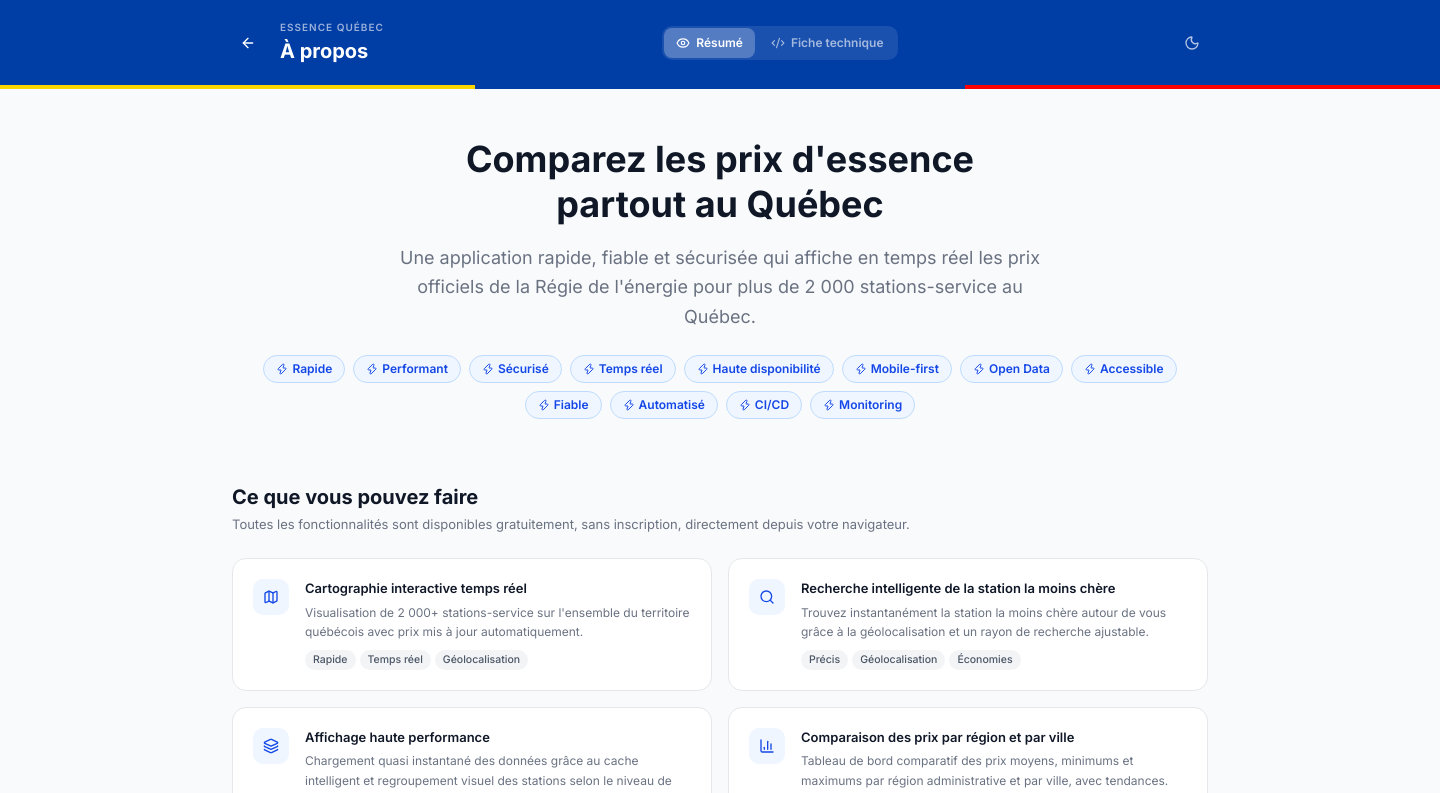
TechPage › affiche les métriques en mode détaillé
Click the button "Fiche technique" at (827, 42), box [759,28,896,58]
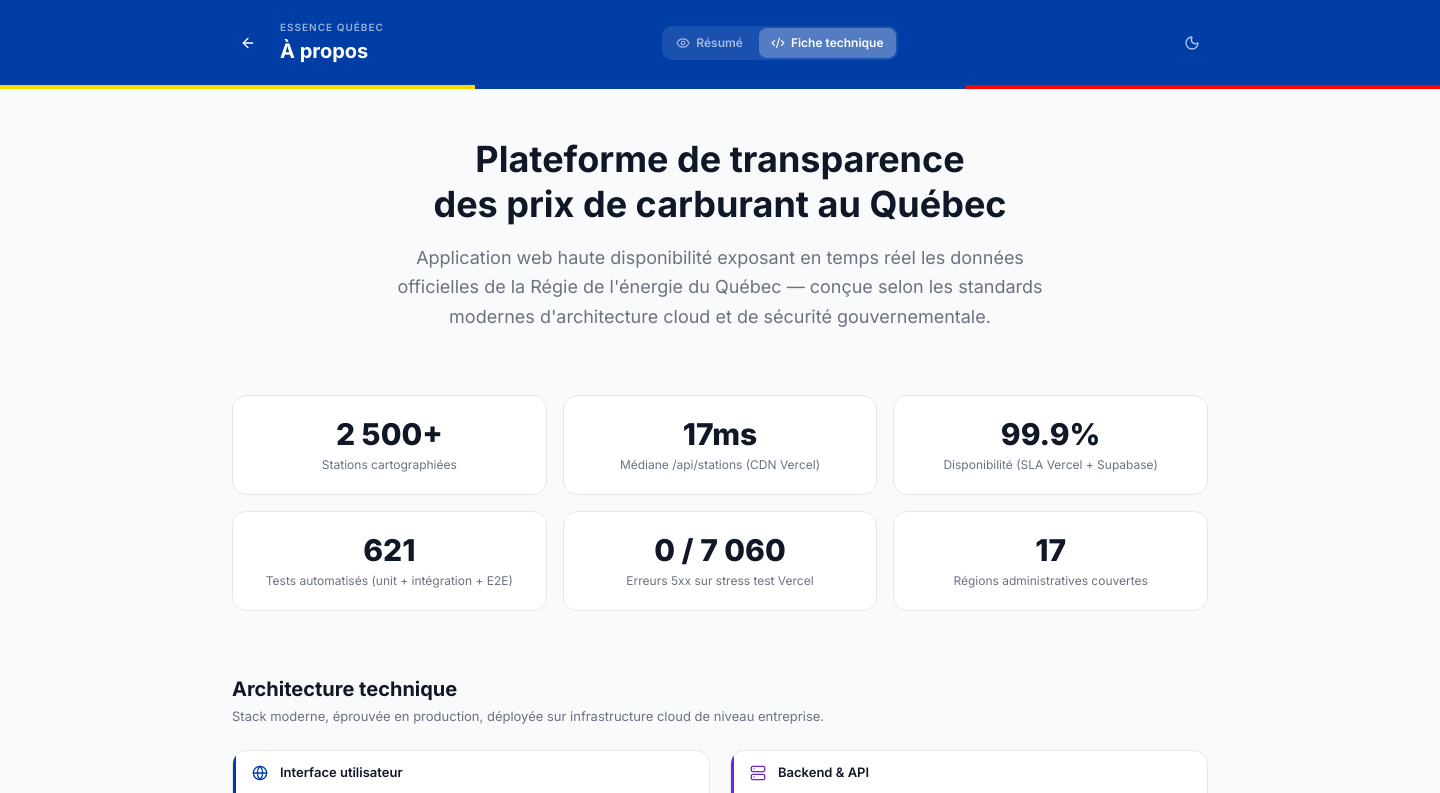
Now the text "2 500+" is shown, box [336,416,443,452]
Now the text "17ms" is shown, box [683,416,757,452]
Now the text "99.9%" is shown, box [1001,416,1100,452]
